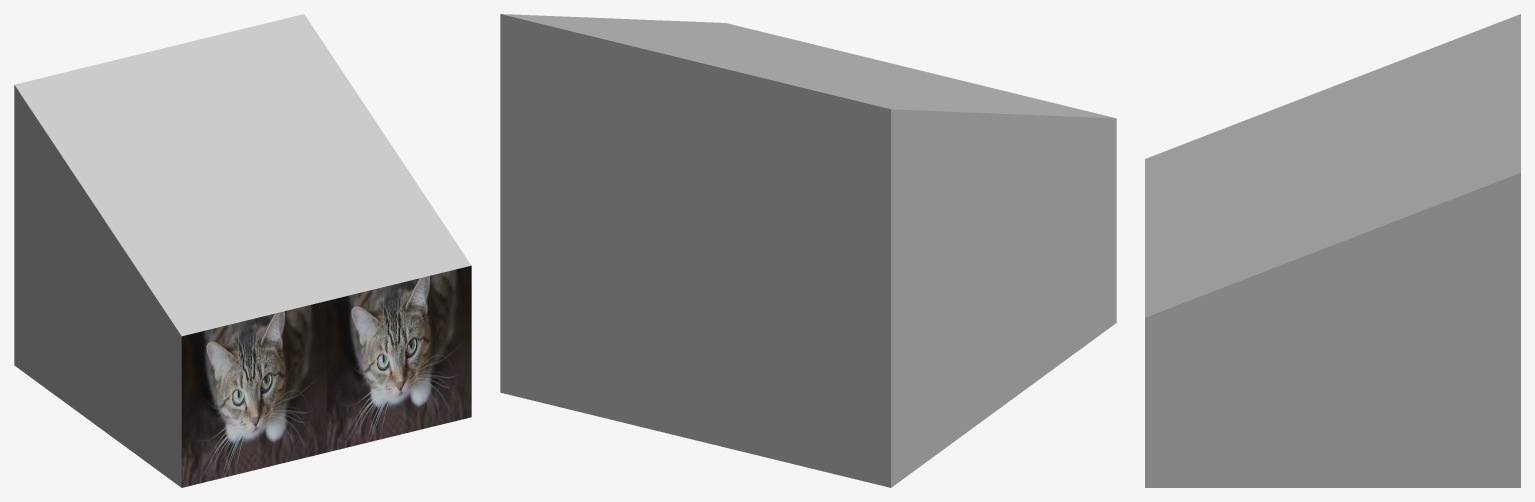
File: skp_simple.dae
The picture shows the model from 3 angles, left to right: view 1: azimuth 30°, elevation 25°; view 2: azimuth 150°, elevation 25°; view 3: azimuth 270°, elevation 25°; orthographic projection. The views are drawn at different scales.
Visible parts, largest first — view 1: SketchUp (×3); view 2: SketchUp (×2); view 3: SketchUp (×2).
Boxes of the visible parts, bbox=[...] form: SketchUp (×3): bbox=[14, 14, 471, 487]; SketchUp (×2): bbox=[500, 14, 1116, 487]; SketchUp (×2): bbox=[1145, 14, 1520, 487].
Size of the model in its own units: 157480 by 157480 by 145808.
